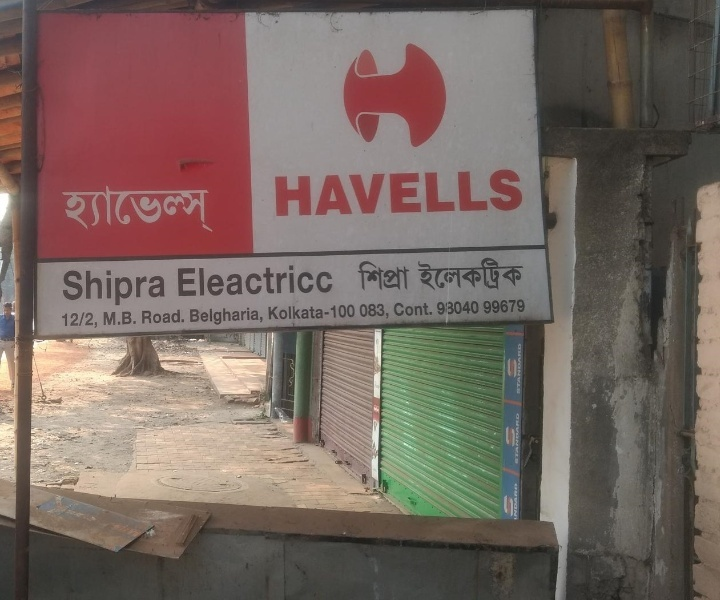text: (353, 35, 368, 154), (369, 35, 384, 154), (385, 35, 400, 154), (401, 35, 416, 154), (417, 35, 432, 154), (433, 35, 448, 154), (340, 35, 352, 154), (65, 185, 80, 236), (81, 185, 96, 236), (97, 185, 112, 236), (113, 185, 128, 236), (129, 185, 144, 236), (145, 185, 160, 236), (161, 185, 176, 236), (177, 185, 192, 236), (193, 185, 208, 236), (273, 169, 288, 218), (289, 169, 304, 218), (305, 169, 320, 218), (321, 169, 336, 218), (337, 169, 352, 218), (353, 169, 368, 218), (369, 169, 384, 218), (385, 169, 400, 218), (401, 169, 416, 218), (417, 169, 432, 218), (433, 169, 448, 218), (449, 169, 464, 218), (465, 169, 480, 218), (481, 169, 496, 218), (497, 169, 512, 218), (65, 267, 80, 308), (81, 267, 96, 308), (97, 267, 112, 308), (113, 267, 128, 308), (129, 267, 144, 308), (145, 267, 160, 308), (516, 414, 528, 465), (209, 185, 220, 236), (177, 263, 192, 300), (193, 263, 208, 300), (209, 263, 224, 300), (225, 263, 240, 300), (241, 263, 256, 300), (257, 263, 272, 300), (273, 263, 288, 300), (289, 263, 304, 300), (305, 263, 320, 300), (417, 256, 432, 293), (433, 256, 448, 293), (449, 256, 464, 293), (465, 256, 480, 293), (481, 256, 496, 293), (497, 256, 512, 293), (513, 169, 524, 218), (518, 344, 528, 394), (321, 263, 334, 300), (369, 260, 384, 292), (385, 260, 400, 292), (514, 485, 528, 519), (449, 35, 453, 154), (513, 256, 525, 293), (193, 305, 208, 327), (209, 305, 224, 327), (225, 305, 240, 327), (241, 305, 256, 327), (358, 260, 368, 292), (401, 260, 410, 292), (369, 301, 384, 320), (337, 303, 352, 321), (497, 298, 512, 316), (273, 304, 288, 321), (289, 304, 304, 321), (305, 304, 320, 321), (513, 298, 527, 316), (161, 267, 167, 308), (65, 313, 80, 329), (81, 313, 96, 329), (417, 302, 433, 317), (465, 301, 481, 316), (145, 309, 160, 324), (161, 309, 176, 324), (401, 302, 416, 317), (449, 301, 464, 316), (484, 298, 496, 316), (113, 312, 128, 325), (359, 301, 368, 320), (321, 304, 331, 321), (437, 301, 448, 316), (257, 305, 264, 327), (385, 301, 393, 320), (177, 309, 186, 324), (330, 303, 336, 321), (353, 303, 359, 321), (393, 302, 400, 317), (104, 312, 112, 325), (62, 185, 64, 236), (129, 312, 136, 325), (188, 305, 192, 327), (62, 267, 64, 308), (268, 304, 272, 321), (97, 313, 101, 329), (61, 313, 64, 329), (175, 263, 176, 300), (142, 309, 144, 324)
